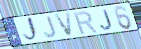6: (113, 4, 133, 30)
J: (23, 16, 41, 44), (43, 15, 58, 39), (100, 9, 114, 31)
R: (72, 10, 99, 36)
V: (53, 11, 73, 38)
